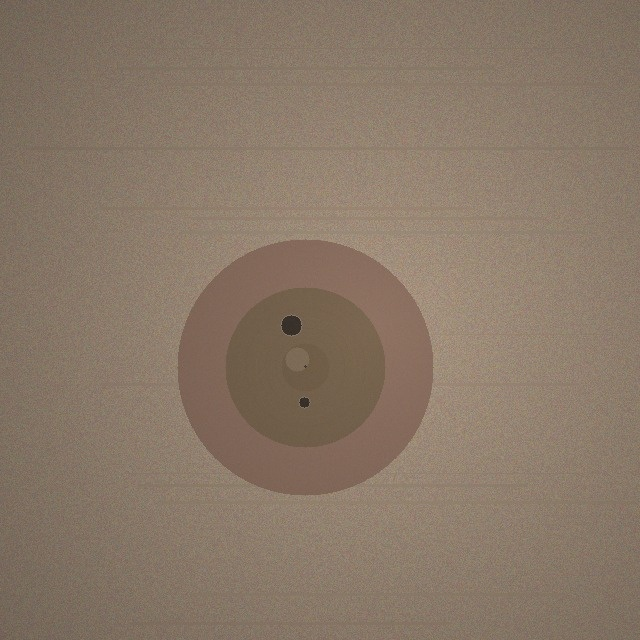shrinkage: (177, 239, 433, 495)
